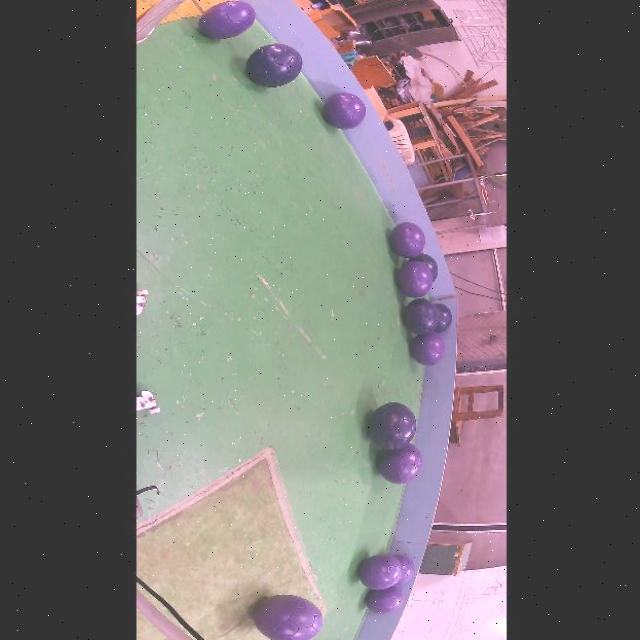B: (247, 43, 302, 87), (368, 402, 416, 450), (402, 298, 440, 335), (409, 253, 438, 281), (434, 303, 452, 333)
P: (253, 594, 323, 640), (199, 1, 254, 39), (378, 443, 423, 484), (357, 554, 402, 590), (323, 92, 366, 129), (397, 261, 433, 298), (389, 222, 425, 258), (411, 331, 445, 366), (365, 586, 404, 614), (394, 555, 414, 586)
